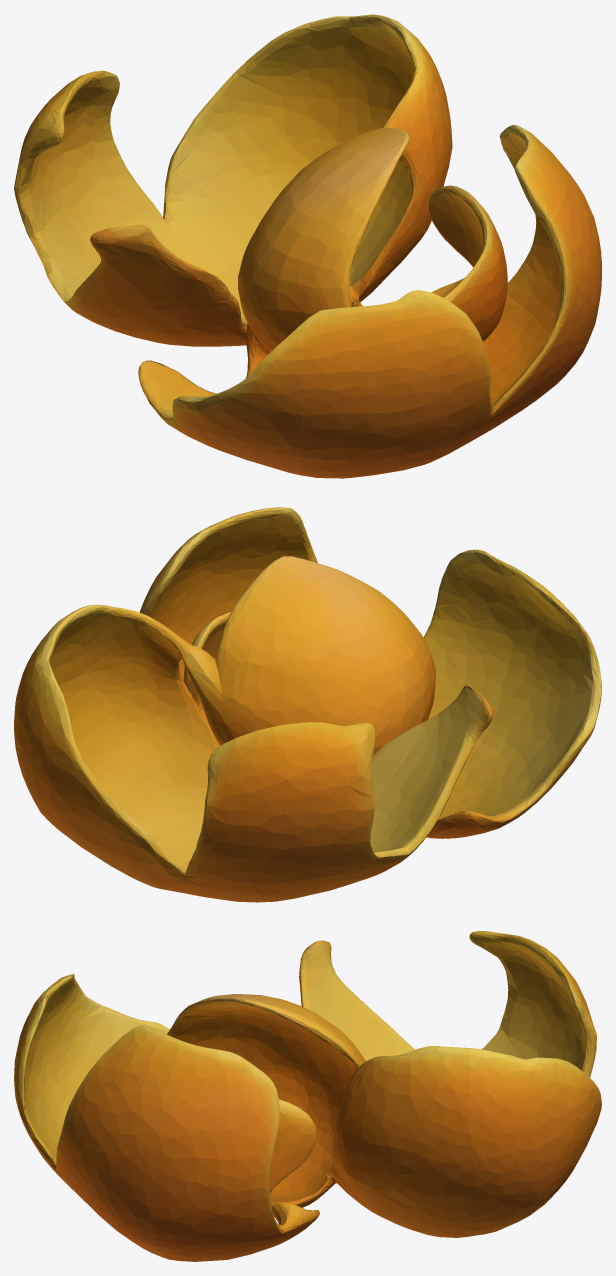
The model's file is orange_peel.glb.
3 views of the same model, one above another, from view 1: azimuth 30°, elevation 25°; view 2: azimuth 150°, elevation 25°; view 3: azimuth 270°, elevation 25° (orthographic). The views are drawn at different scales.
Parts seen in each view (by area): view 1: geometry_0; view 2: geometry_0; view 3: geometry_0.
Boxes of the visible parts, box(x1,y1,x2,y2) form: geometry_0: box(14, 14, 601, 478); geometry_0: box(14, 507, 601, 902); geometry_0: box(14, 931, 601, 1261).
Bounding box in the file's own units: 0.7686 × 0.4666 × 0.9966.
1 material, 1 textured.
